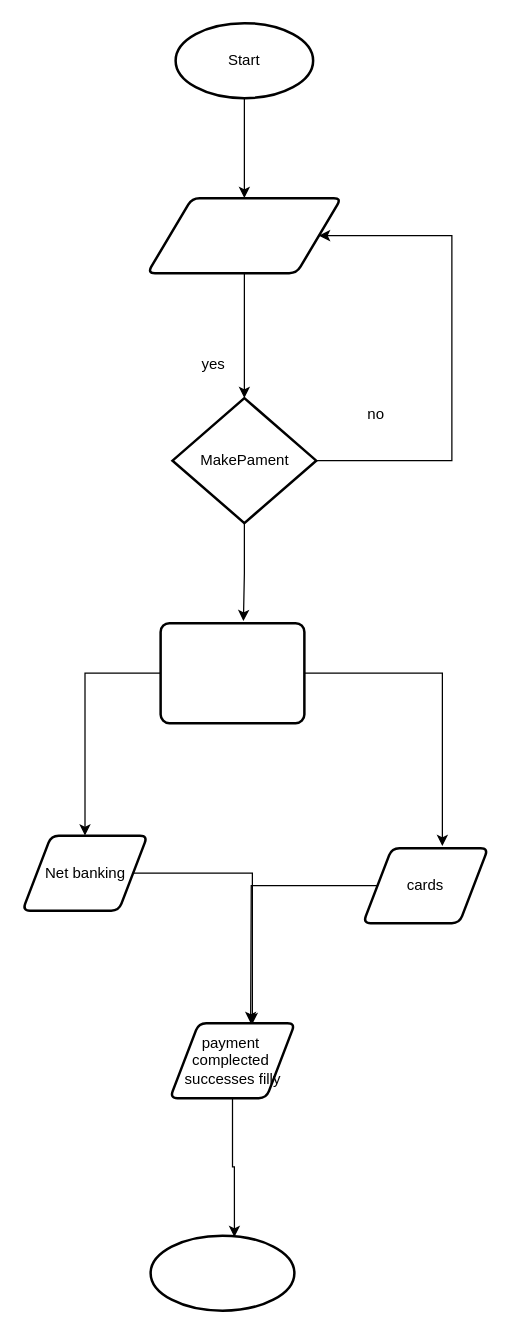
Image size: 511x1333. Some labels were removed from this diagram. Here are the shapes that lost their labels. From the top down, the centre of each, then its label:
At pixel 244 235: "Proceed to buy".
At pixel 232 672: "payment type".
At pixel 222 1272: "Stop".
